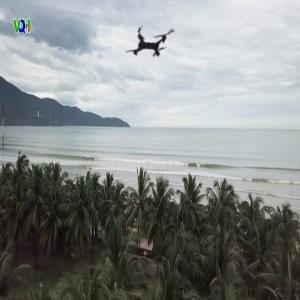drone: (112, 5, 191, 84)
